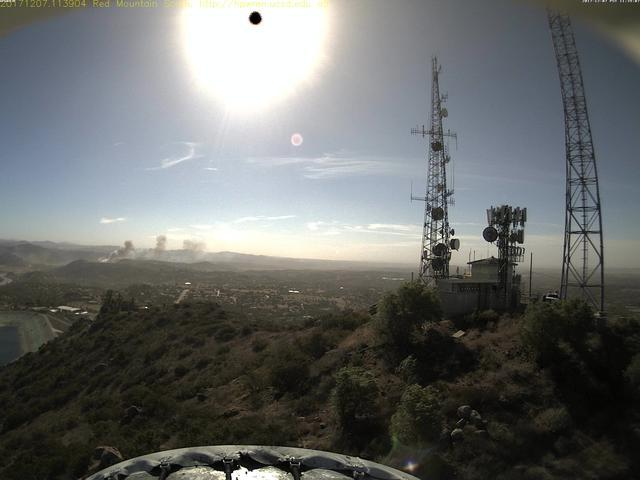smoke: (91, 230, 211, 266)
